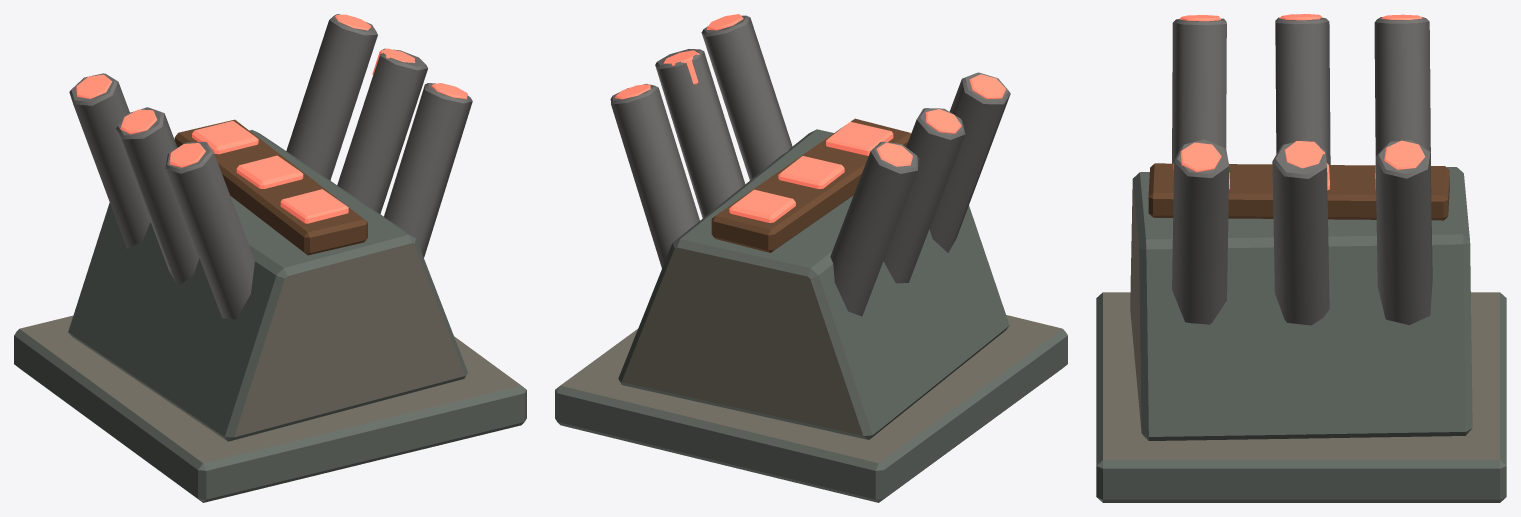
The model's file is R4X_Overdrive_LOD1.fbx.
3 views of the same model, side by side, from view 1: azimuth 30°, elevation 25°; view 2: azimuth 150°, elevation 25°; view 3: azimuth 270°, elevation 25° (orthographic). The views are drawn at different scales.
Parts seen in each view (by area): view 1: R4X_Overdrive_LOD1; view 2: R4X_Overdrive_LOD1; view 3: R4X_Overdrive_LOD1.
Part boxes in pixels (box(x1,y1,x2,y2)): R4X_Overdrive_LOD1: box(14, 14, 526, 502); R4X_Overdrive_LOD1: box(555, 14, 1067, 502); R4X_Overdrive_LOD1: box(1096, 14, 1506, 502).
Bounding box in the file's own units: 0.52 × 0.4751 × 0.52.
